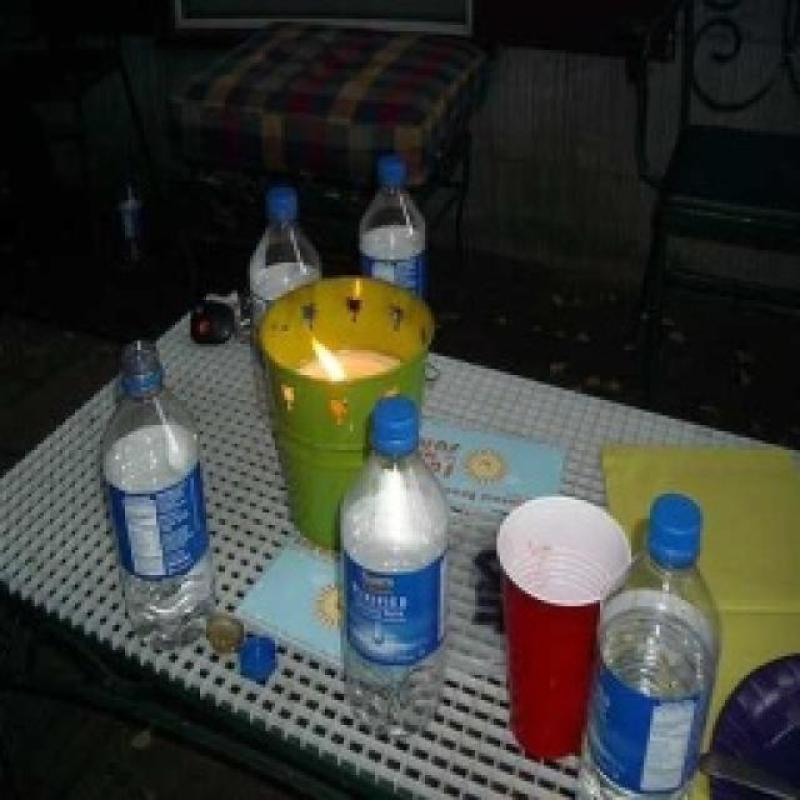botella: (575, 490, 723, 800), (97, 339, 222, 651), (337, 400, 453, 731), (251, 189, 324, 411), (358, 157, 432, 295)
